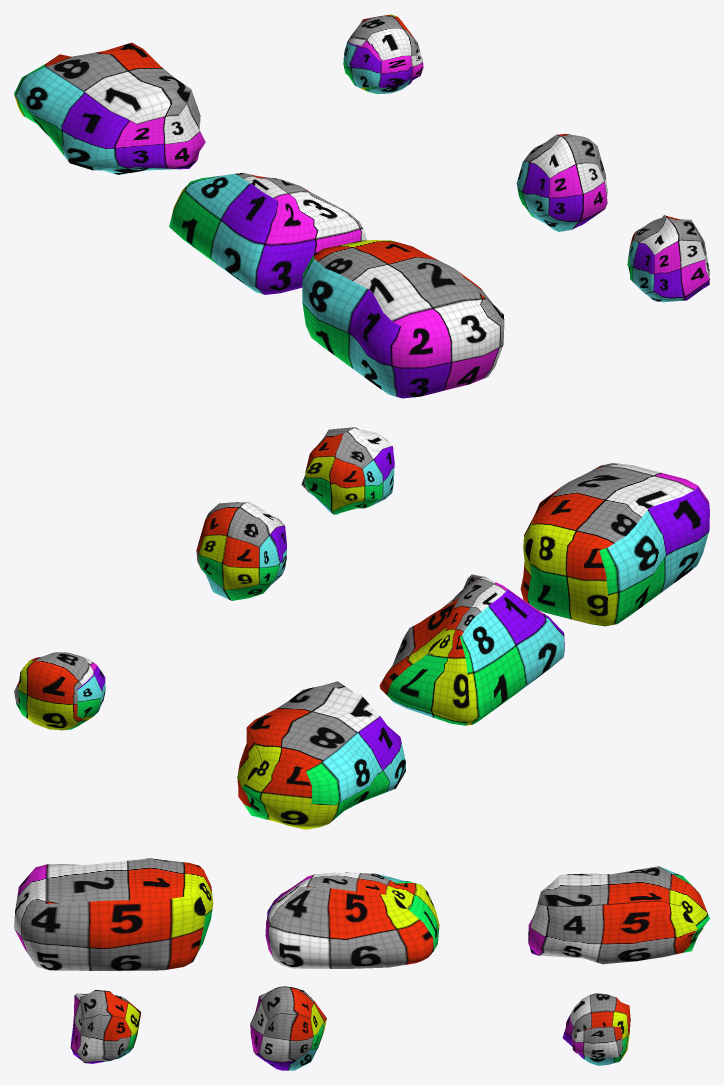
File: get us some rocks.fbx
3 views of the same model, one above another, from view 1: azimuth 30°, elevation 25°; view 2: azimuth 150°, elevation 25°; view 3: azimuth 270°, elevation 25° (orthographic). The views are drawn at different scales.
Visible parts, largest first — view 1: Sofa_Rock_1, Sofa_Rock_3, Sofa_Rock_2, Round_Rock_2, Round_Rock_1, Round_Rock_3; view 2: Sofa_Rock_1, Sofa_Rock_3, Sofa_Rock_2, Round_Rock_2, Round_Rock_1, Round_Rock_3; view 3: Sofa_Rock_1, Sofa_Rock_2, Sofa_Rock_3, Round_Rock_2, Round_Rock_1, Round_Rock_3.
Part boxes in pixels (x1=…): Sofa_Rock_1: x1=302, y1=240, x2=504, y2=398; Sofa_Rock_3: x1=14, y1=42, x2=205, y2=174; Sofa_Rock_2: x1=169, y1=173, x2=366, y2=294; Round_Rock_2: x1=516, y1=133, x2=607, y2=231; Round_Rock_1: x1=627, y1=215, x2=709, y2=302; Round_Rock_3: x1=343, y1=14, x2=423, y2=93; Sofa_Rock_1: x1=520, y1=463, x2=709, y2=626; Sofa_Rock_3: x1=237, y1=681, x2=405, y2=829; Sofa_Rock_2: x1=379, y1=574, x2=564, y2=725; Round_Rock_2: x1=196, y1=502, x2=286, y2=600; Round_Rock_1: x1=301, y1=427, x2=394, y2=514; Round_Rock_3: x1=14, y1=652, x2=105, y2=730; Sofa_Rock_1: x1=14, y1=858, x2=213, y2=970; Sofa_Rock_2: x1=265, y1=872, x2=439, y2=968; Sofa_Rock_3: x1=528, y1=866, x2=709, y2=964; Round_Rock_2: x1=250, y1=986, x2=326, y2=1070; Round_Rock_1: x1=70, y1=990, x2=141, y2=1063; Round_Rock_3: x1=562, y1=993, x2=630, y2=1065.
Bounding box in the file's own units: 115 × 28.37 × 216.
1 material, 1 textured.
